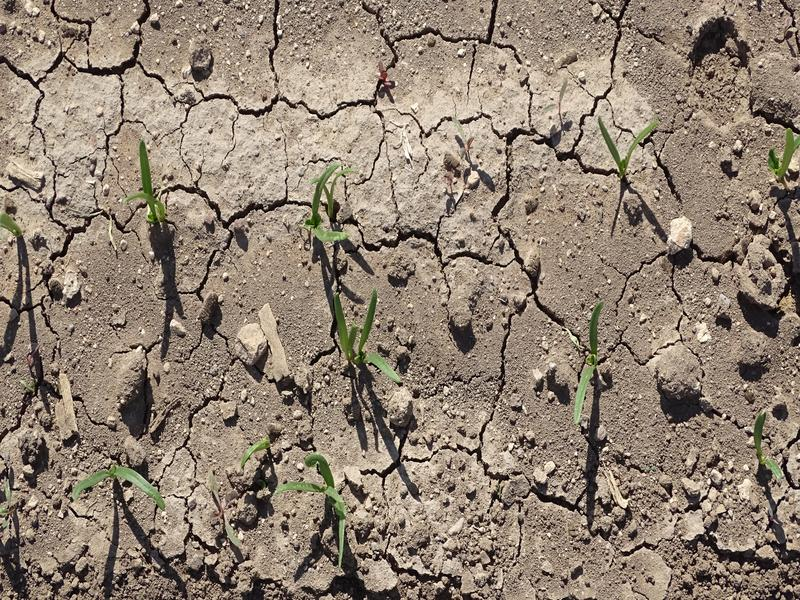Espinaca: (329, 280, 406, 381), (278, 451, 354, 541), (66, 460, 167, 509), (567, 300, 606, 420), (307, 166, 355, 246), (595, 116, 657, 176), (129, 141, 172, 218), (747, 414, 788, 484), (764, 122, 800, 180)
